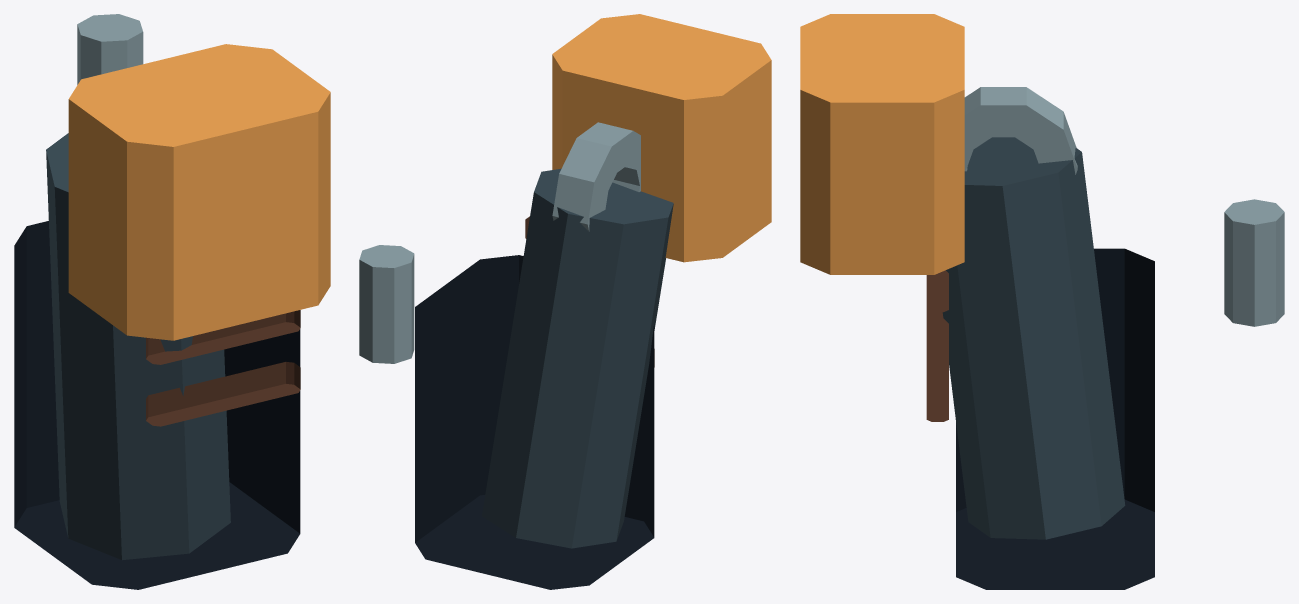
Rendered from enemy_runner_shin_l.obj.
The picture shows the model from 3 angles, left to right: view 1: azimuth 30°, elevation 25°; view 2: azimuth 150°, elevation 25°; view 3: azimuth 270°, elevation 25°; orthographic projection. The views are drawn at different scales.
Size of the model in its own units: 0.3097 by 0.59 by 0.56.
